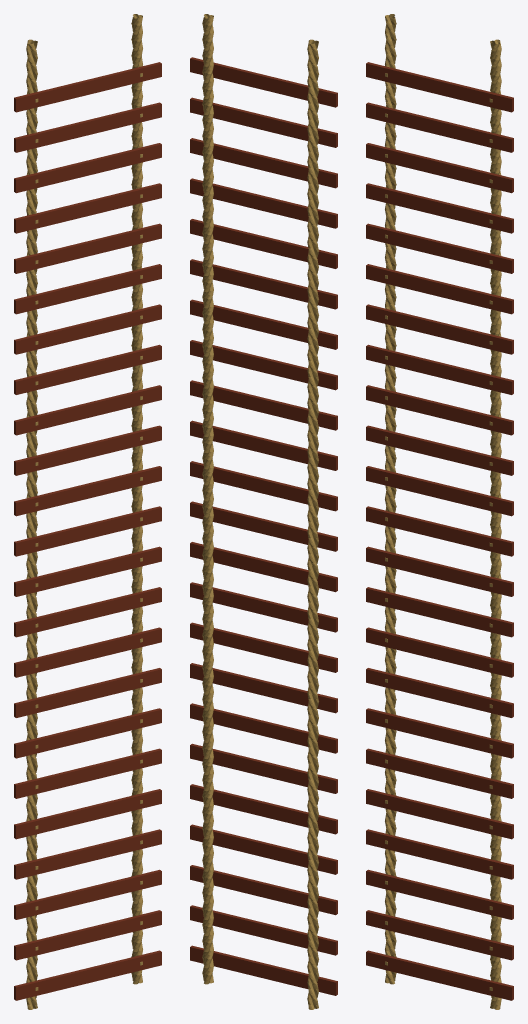
File: RopeLadder.fbx
The picture shows the model from 3 angles, left to right: view 1: azimuth 30°, elevation 25°; view 2: azimuth 150°, elevation 25°; view 3: azimuth 330°, elevation 25°; orthographic projection.
Parts seen in each view (by area): view 1: Cylinder.005; view 2: Cylinder.005; view 3: Cylinder.005.
Part boxes in pixels (<box>): Cylinder.005: <box>14,14,161,1009</box>; Cylinder.005: <box>190,14,337,1009</box>; Cylinder.005: <box>366,14,513,1009</box>.
Size of the model in its own units: 223 by 1410 by 20.17.
